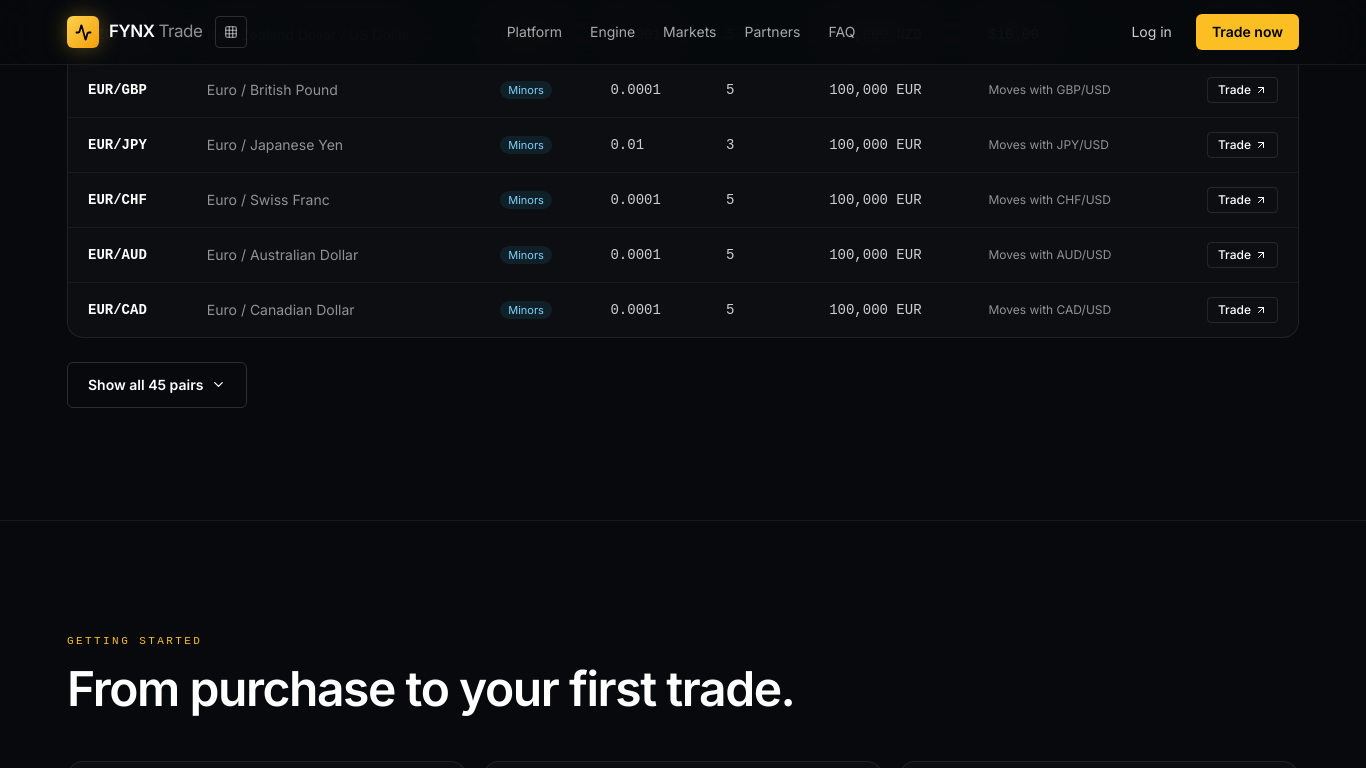
Test case: FYNX Trade welcome page › lists the pairs in a filterable table that opens each one in the terminal
(page scrolled)
Click the button "Show all 45 pairs" at {"x": 157, "y": 385}, box [67,362,247,408]
(page scrolled)
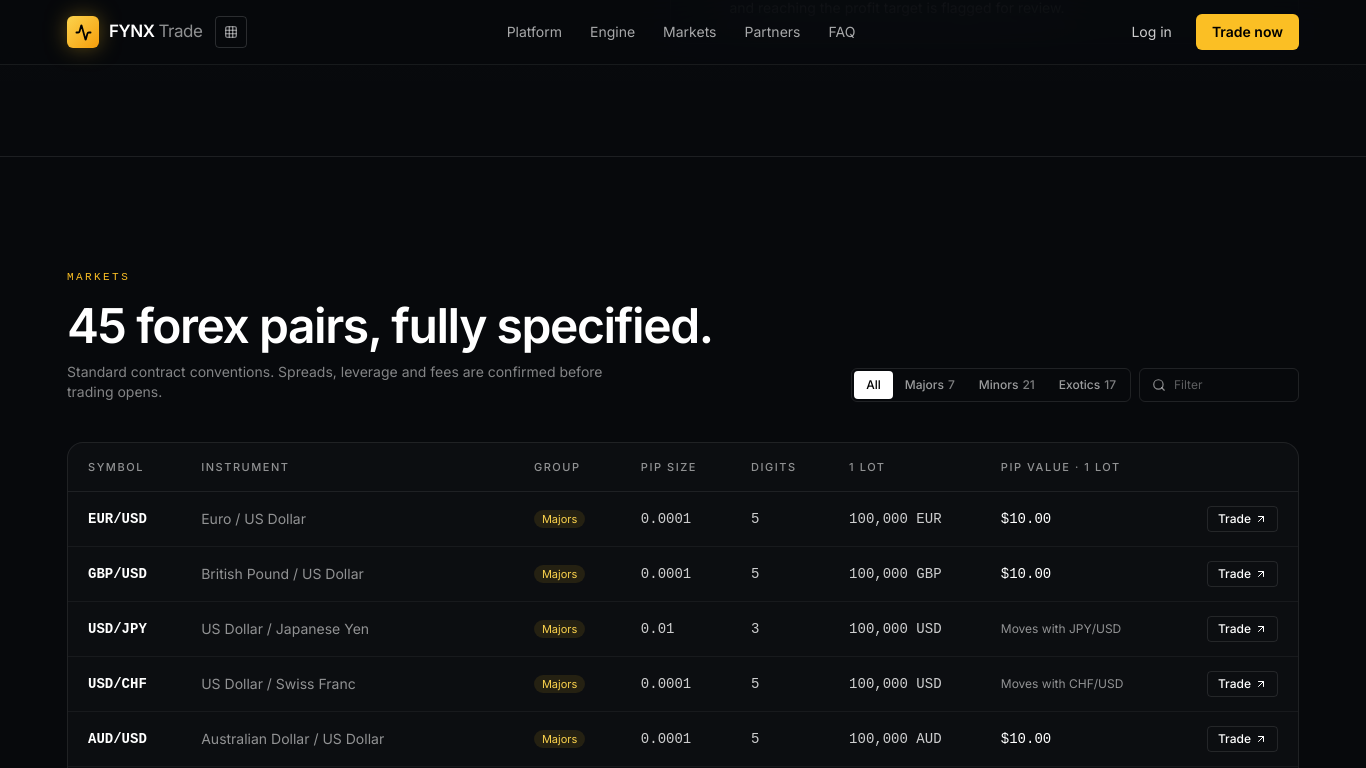
Now the number of rows is 46
Click the button "Exotics17" at {"x": 1087, "y": 385}, box [1047,371,1128,399]
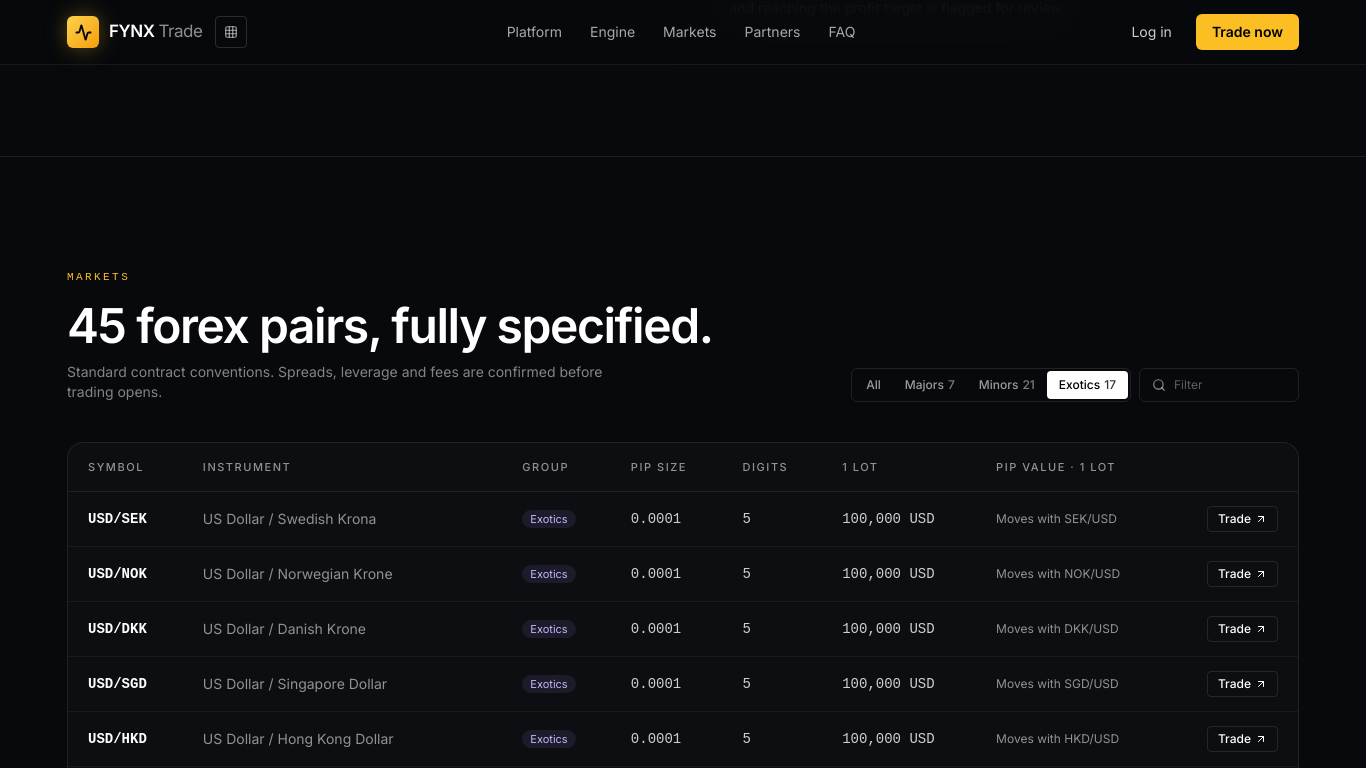
Now the number of rows is 18
Type "rand" into the field named "Filter pairs" at {"x": 1230, "y": 385}, box [1174,369,1286,401]
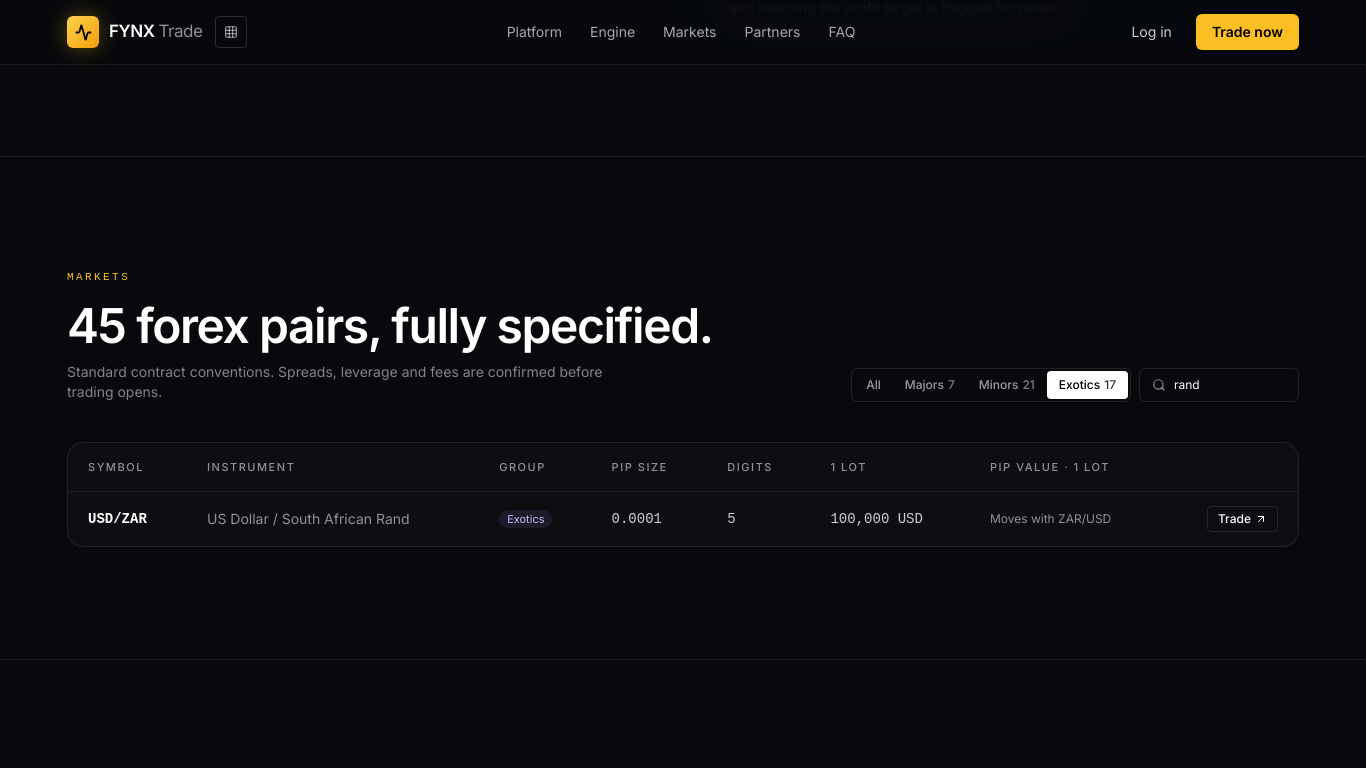
Now the text "Moves with ZAR/USD" is shown, box [990,511,1111,526]
Now the number of rows is 2, box [68,443,1298,491]; [68,491,1298,546]
